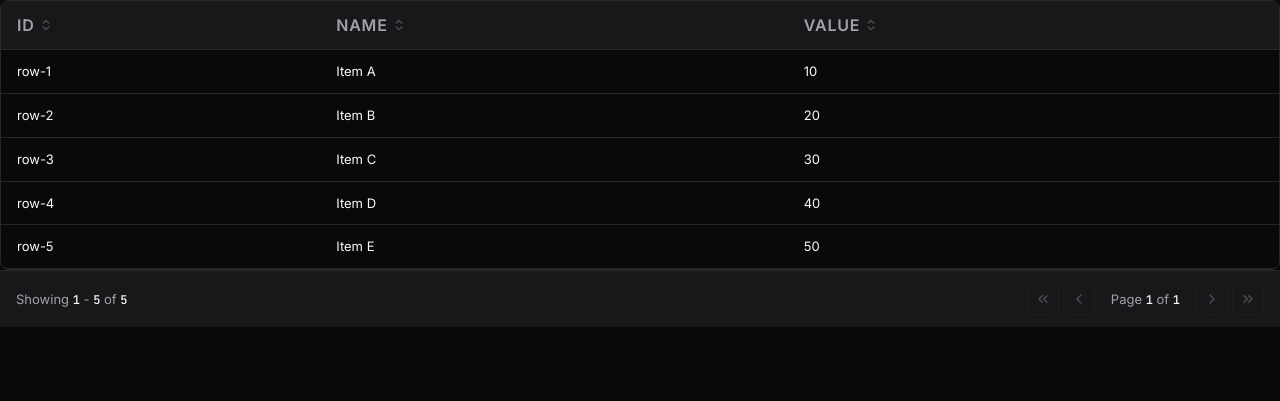
Scenario: DataTable - row expansion › clicking an expandable row renders the expanded content
The image size is (1280, 401).
Note: Click the first data row
Click the text "row-1": coordinates (640, 71) [1,50,1279,93]
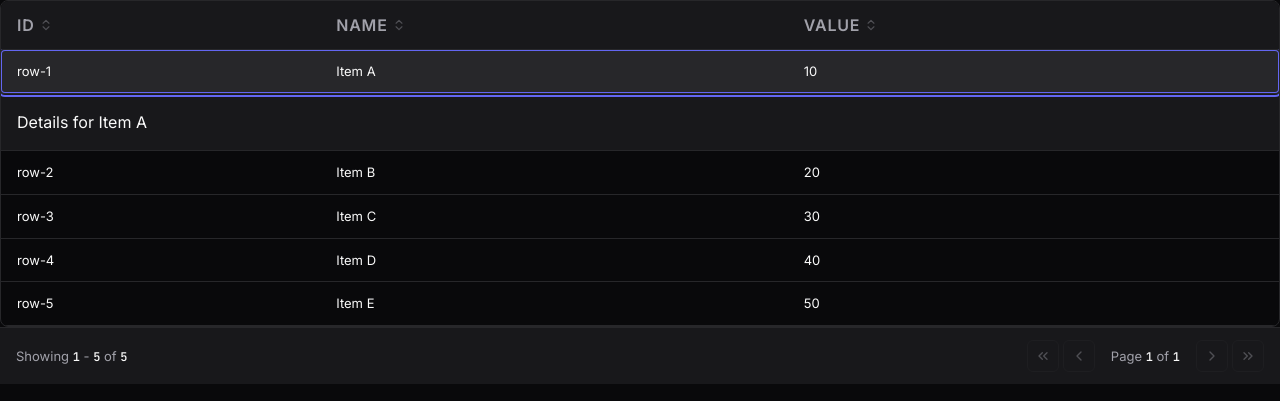
Now the text "Details for Item A" is shown, box [17,112,147,132]
